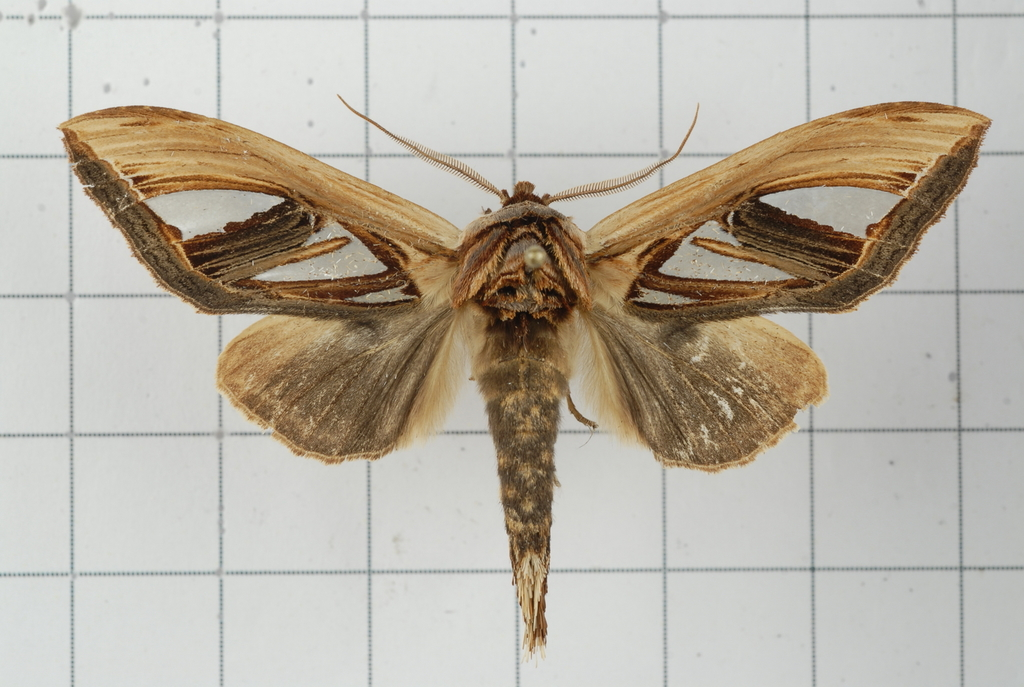Butterfly: (67, 78, 982, 666)
